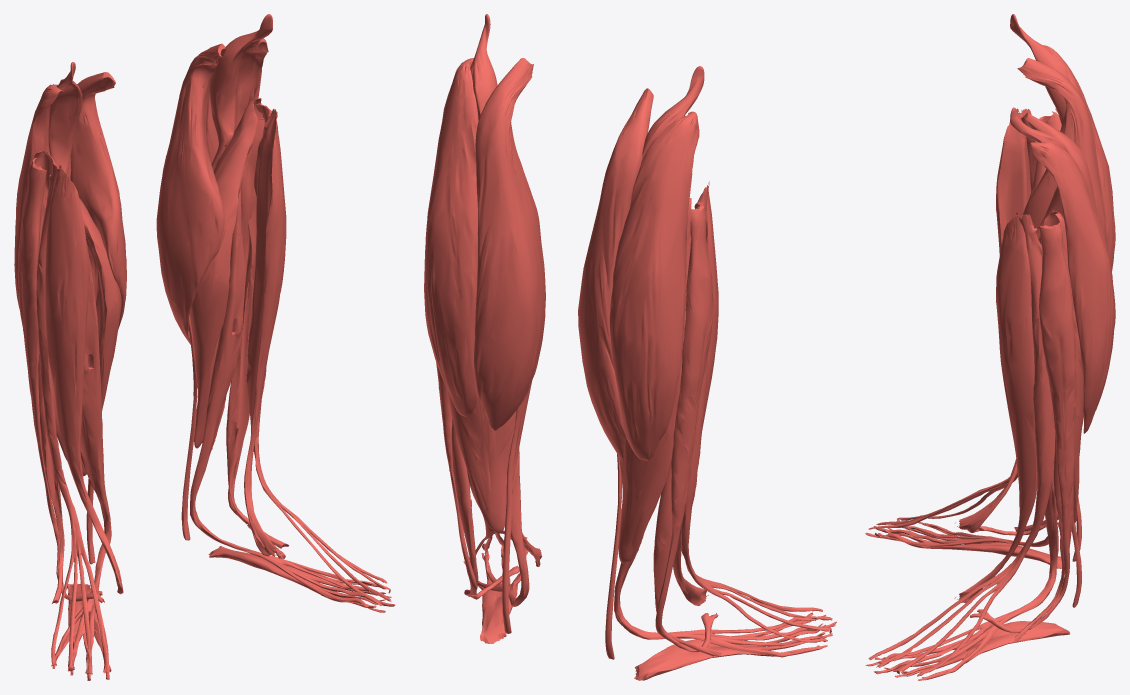
The model's file is supplement-ankle-foot-muscle.glb.
3 views of the same model, side by side, from view 1: azimuth 30°, elevation 25°; view 2: azimuth 150°, elevation 25°; view 3: azimuth 270°, elevation 25° (orthographic). The views are drawn at different scales.
Parts seen in each view (by area): view 1: ankle-foot:gastrocnemius:isa:FJ1397M, ankle-foot:tibialis-anterior:isa:FJ1439, ankle-foot:soleus:isa:FJ1437M, ankle-foot:tibialis-anterior:isa:FJ1439M, ankle-foot:flexor-digitorum-longus:isa:FJ1414M, ankle-foot:gastrocnemius:isa:FJ1397, ankle-foot:extensor-digitorum-longus:isa:FJ1406, ankle-foot:flexor-digitorum-longus:isa:FJ1414, ankle-foot:fibularis-longus:isa:FJ1410, ankle-foot:soleus:isa:FJ1437, ankle-foot:plantaris:isa:FJ1429M, ankle-foot:fibularis-brevis:isa:FJ1409M (+8 smaller); view 2: ankle-foot:gastrocnemius:isa:FJ1394, ankle-foot:gastrocnemius:isa:FJ1397M, ankle-foot:gastrocnemius:isa:FJ1394M, ankle-foot:gastrocnemius:isa:FJ1397, ankle-foot:fibularis-longus:isa:FJ1410, ankle-foot:soleus:isa:FJ1437M, ankle-foot:soleus:isa:FJ1437, ankle-foot:extensor-digitorum-longus:isa:FJ1406, ankle-foot:flexor-digitorum-longus:isa:FJ1414, ankle-foot:plantaris:isa:FJ1429M, ankle-foot:flexor-digitorum-brevis:isa:FJ1413, ankle-foot:plantaris:isa:FJ1429 (+6 smaller); view 3: ankle-foot:gastrocnemius:isa:FJ1394M, ankle-foot:tibialis-anterior:isa:FJ1439M, ankle-foot:fibularis-longus:isa:FJ1410M, ankle-foot:extensor-digitorum-longus:isa:FJ1406M, ankle-foot:gastrocnemius:isa:FJ1397, ankle-foot:tibialis-anterior:isa:FJ1439, ankle-foot:flexor-digitorum-longus:isa:FJ1414M, ankle-foot:flexor-digitorum-brevis:isa:FJ1413M, ankle-foot:soleus:isa:FJ1437M, ankle-foot:gastrocnemius:isa:FJ1394, ankle-foot:flexor-digitorum-longus:isa:FJ1414, ankle-foot:flexor-digitorum-brevis:isa:FJ1413 (+6 smaller).
Part boxes in pixels (x1,y1,x2,y2): ankle-foot:gastrocnemius:isa:FJ1397M: [156, 43, 226, 344]; ankle-foot:tibialis-anterior:isa:FJ1439: [45, 169, 123, 594]; ankle-foot:soleus:isa:FJ1437M: [189, 98, 264, 448]; ankle-foot:tibialis-anterior:isa:FJ1439M: [244, 116, 286, 556]; ankle-foot:flexor-digitorum-longus:isa:FJ1414M: [190, 190, 395, 612]; ankle-foot:gastrocnemius:isa:FJ1397: [70, 72, 126, 329]; ankle-foot:extensor-digitorum-longus:isa:FJ1406: [36, 162, 109, 675]; ankle-foot:flexor-digitorum-longus:isa:FJ1414: [52, 242, 111, 680]; ankle-foot:fibularis-longus:isa:FJ1410: [17, 158, 104, 602]; ankle-foot:soleus:isa:FJ1437: [32, 150, 121, 476]; ankle-foot:plantaris:isa:FJ1429M: [181, 14, 272, 540]; ankle-foot:fibularis-brevis:isa:FJ1409M: [226, 277, 288, 548]; ankle-foot:gastrocnemius:isa:FJ1394: [609, 111, 699, 460]; ankle-foot:gastrocnemius:isa:FJ1397M: [474, 58, 545, 430]; ankle-foot:gastrocnemius:isa:FJ1394M: [424, 58, 478, 416]; ankle-foot:gastrocnemius:isa:FJ1397: [578, 88, 653, 461]; ankle-foot:fibularis-longus:isa:FJ1410: [655, 204, 718, 652]; ankle-foot:soleus:isa:FJ1437M: [446, 380, 532, 533]; ankle-foot:soleus:isa:FJ1437: [618, 198, 692, 563]; ankle-foot:extensor-digitorum-longus:isa:FJ1406: [681, 181, 832, 642]; ankle-foot:flexor-digitorum-longus:isa:FJ1414: [614, 535, 836, 657]; ankle-foot:plantaris:isa:FJ1429M: [470, 14, 523, 633]; ankle-foot:flexor-digitorum-brevis:isa:FJ1413: [634, 612, 826, 680]; ankle-foot:plantaris:isa:FJ1429: [605, 66, 704, 659]; ankle-foot:gastrocnemius:isa:FJ1394M: [1031, 142, 1115, 433]; ankle-foot:tibialis-anterior:isa:FJ1439M: [954, 215, 1037, 603]; ankle-foot:fibularis-longus:isa:FJ1410M: [968, 222, 1075, 633]; ankle-foot:extensor-digitorum-longus:isa:FJ1406M: [868, 212, 1055, 676]; ankle-foot:gastrocnemius:isa:FJ1397: [1017, 58, 1106, 244]; ankle-foot:tibialis-anterior:isa:FJ1439: [955, 113, 1031, 532]; ankle-foot:flexor-digitorum-longus:isa:FJ1414M: [865, 464, 1058, 680]; ankle-foot:flexor-digitorum-brevis:isa:FJ1413M: [874, 621, 1070, 680]; ankle-foot:soleus:isa:FJ1437M: [1038, 210, 1083, 523]; ankle-foot:gastrocnemius:isa:FJ1394: [1043, 45, 1115, 271]; ankle-foot:flexor-digitorum-longus:isa:FJ1414: [865, 501, 1057, 546]; ankle-foot:flexor-digitorum-brevis:isa:FJ1413: [874, 523, 1061, 568].
Size of the model in its own units: 0.3321 by 0.5287 by 0.2206.
